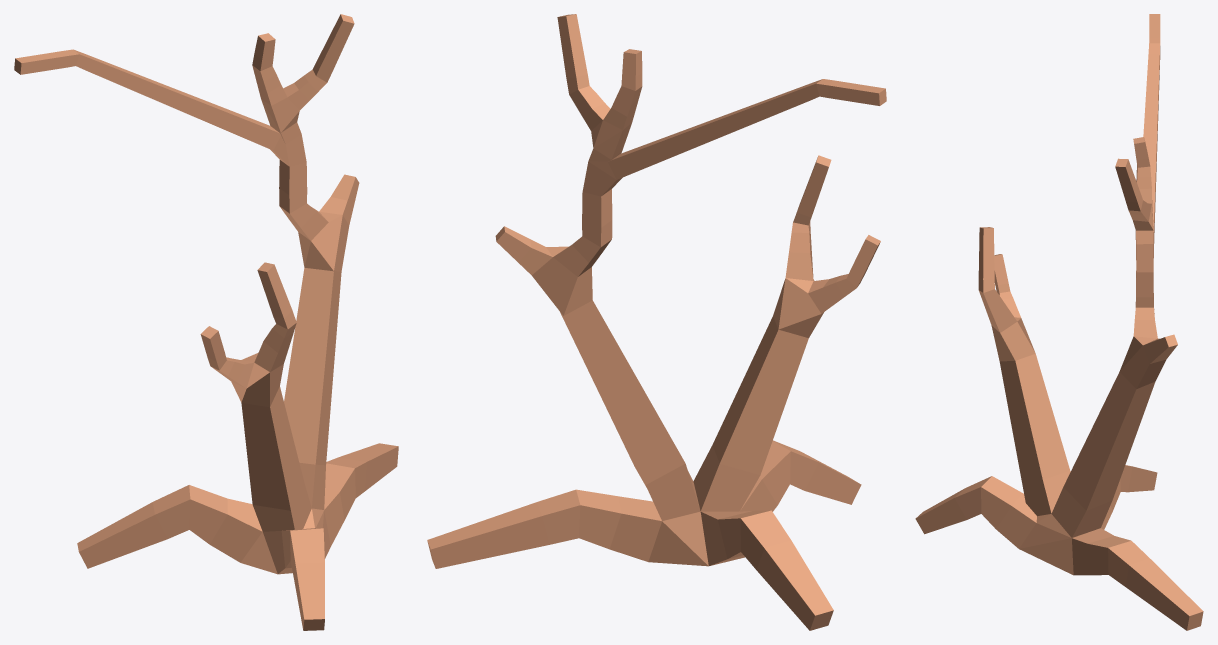
The model's file is baobatree.fbx.
3 views of the same model, side by side, from view 1: azimuth 30°, elevation 25°; view 2: azimuth 150°, elevation 25°; view 3: azimuth 270°, elevation 25° (orthographic). The views are drawn at different scales.
Parts seen in each view (by area): view 1: baobabtree; view 2: baobabtree; view 3: baobabtree.
Boxes of the visible parts, left/top/right/bottom form: baobabtree: left=14, top=14, right=398, bottom=630; baobabtree: left=427, top=14, right=886, bottom=630; baobabtree: left=915, top=14, right=1203, bottom=630.
Size of the model in its own units: 2.6 by 1.86 by 3.2.
